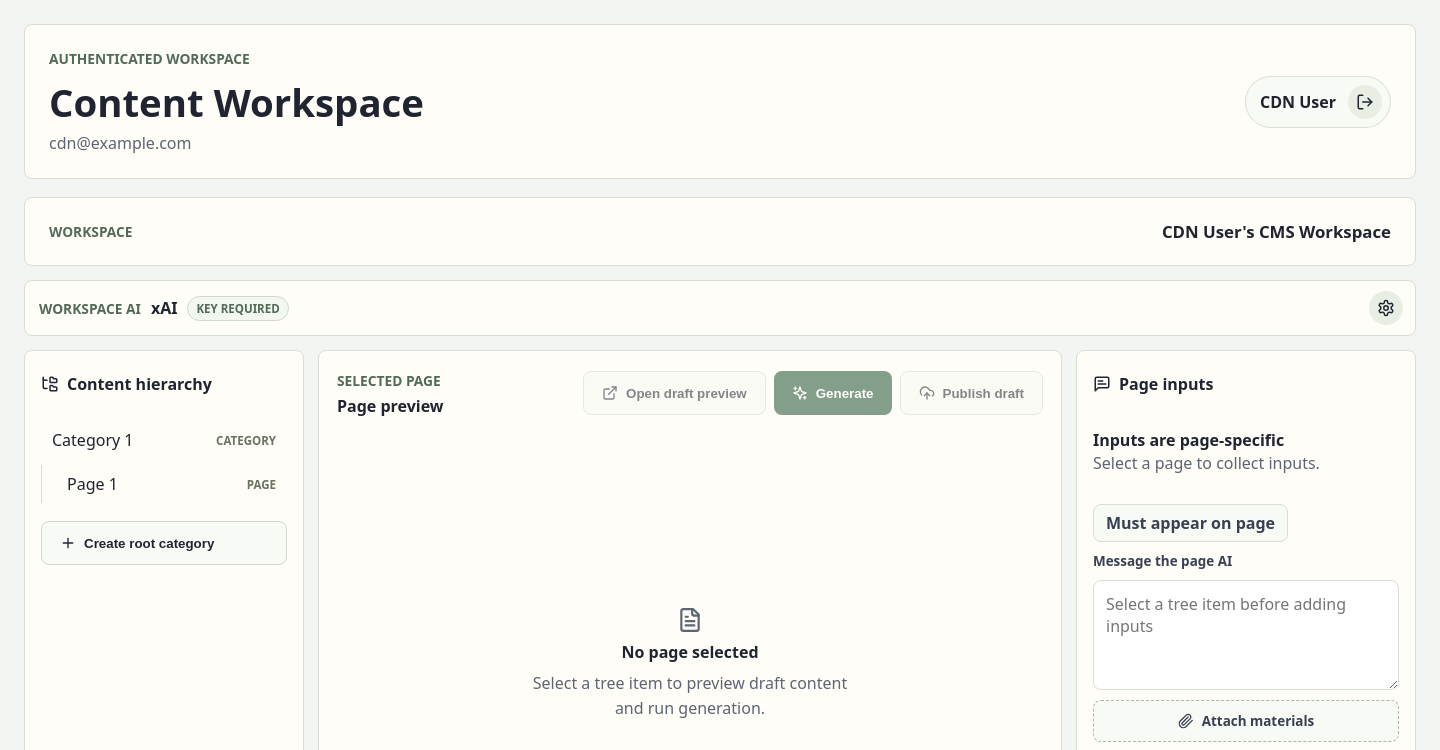
CDN delivery integration › CMS shows publication failure from the CDN adapter and preserves the draft
Click the button "Page 1 page" at x=172, y=484, box left=56, top=465, right=287, bottom=503
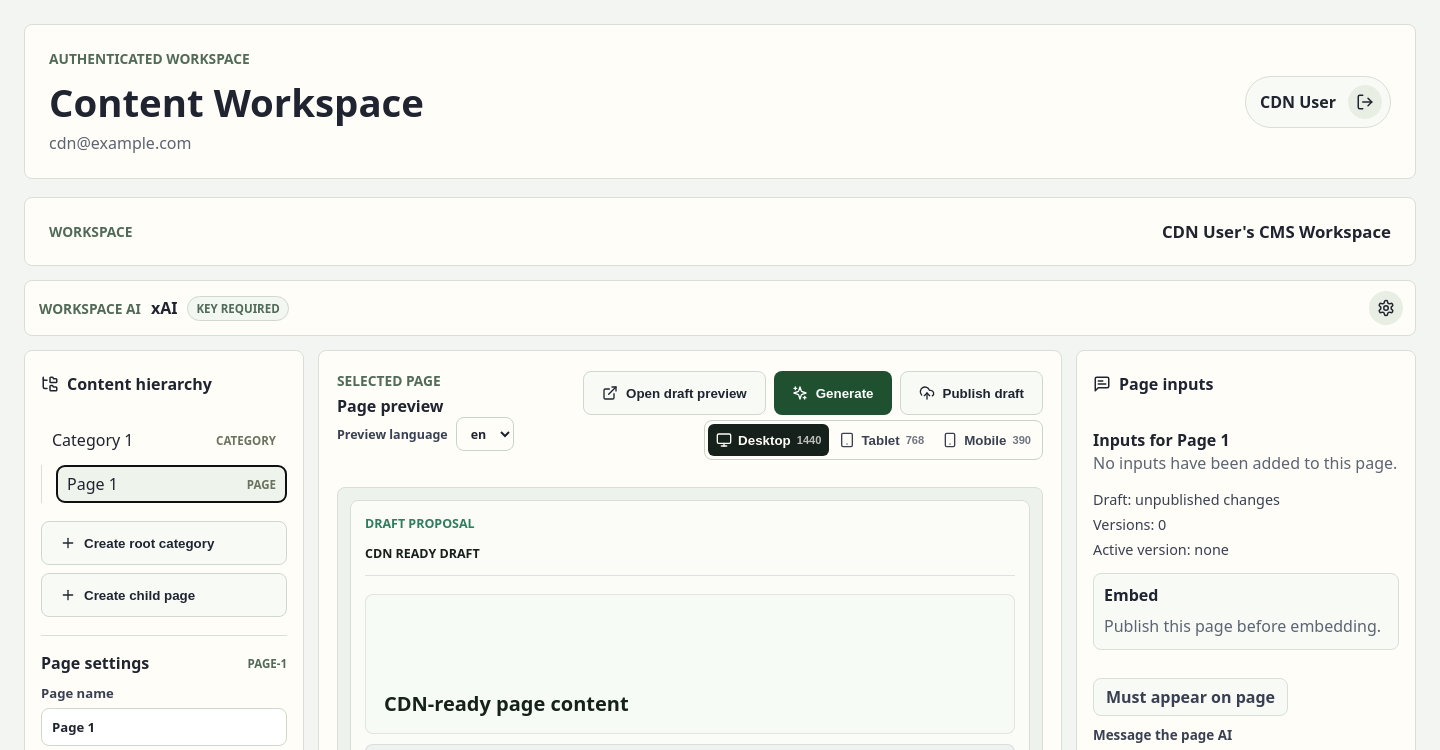
Click the button "Publish draft" at x=971, y=393, box left=900, top=371, right=1043, bottom=415
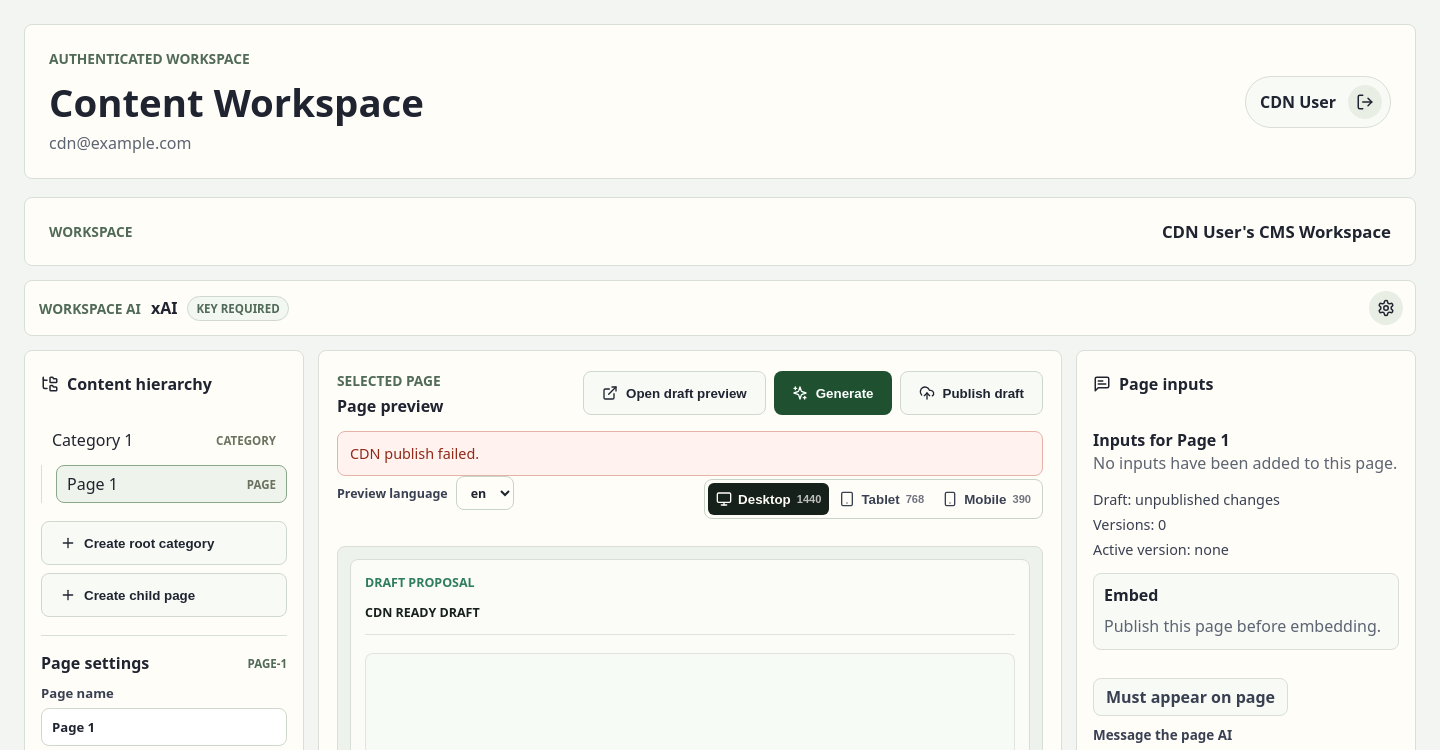
Result: the message shows "CDN publish failed" at left=350, top=444, right=479, bottom=463
